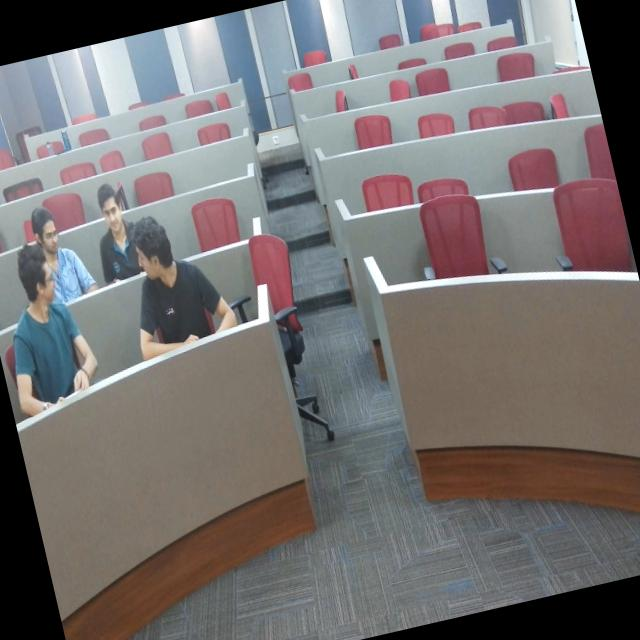cheating: (115, 199, 233, 374), (0, 239, 105, 434), (76, 157, 149, 287)
non-cheating: (18, 178, 82, 302)
